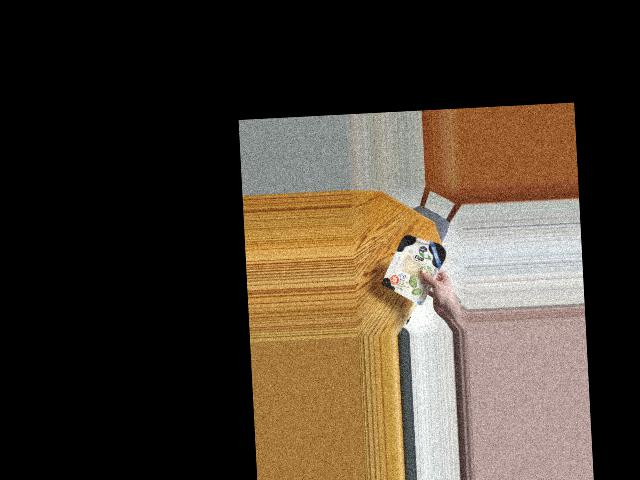cheese: (383, 234, 447, 298)
